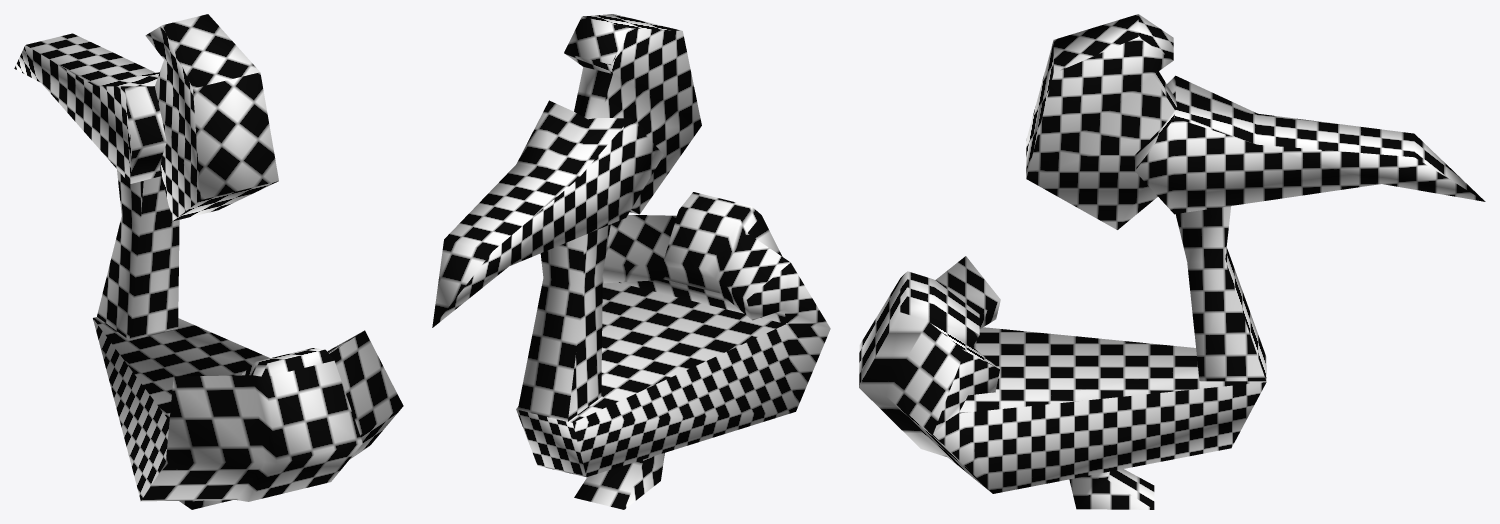
The model's file is stst119.dae.
The picture shows the model from 3 angles, left to right: view 1: azimuth 30°, elevation 25°; view 2: azimuth 150°, elevation 25°; view 3: azimuth 270°, elevation 25°; orthographic projection. The views are drawn at different scales.
Visible parts, largest first — view 1: bird01; view 2: bird01; view 3: bird01.
Boxes of the visible parts, x1=… form: bird01: x1=14, y1=14, x2=403, y2=509; bird01: x1=432, y1=14, x2=830, y2=509; bird01: x1=859, y1=14, x2=1485, y2=509.
Size of the model in its own units: 1.37 by 3.06 by 2.55.
1 material, 1 textured.
